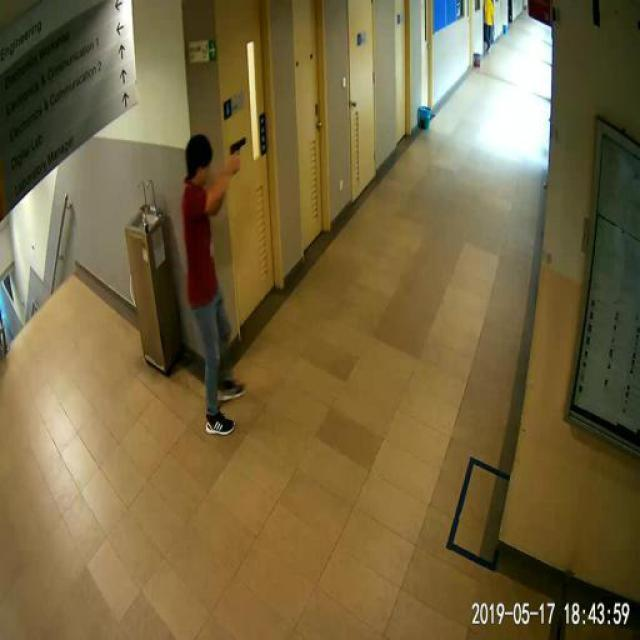weapon: (229, 136, 247, 176)
